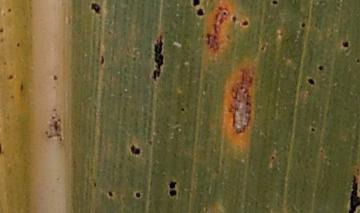tarspot: (153, 35, 164, 81), (347, 175, 360, 213), (90, 2, 101, 15), (130, 145, 141, 155), (306, 77, 316, 86), (168, 180, 177, 189), (44, 130, 53, 139), (52, 119, 58, 132), (196, 8, 205, 16), (342, 40, 350, 49), (317, 64, 325, 72), (99, 55, 105, 65), (51, 73, 58, 81), (241, 19, 249, 26), (299, 20, 306, 28), (192, 1, 201, 7), (147, 138, 153, 147), (259, 45, 266, 52), (231, 15, 237, 23), (269, 153, 275, 161), (169, 190, 177, 196), (50, 114, 56, 122), (7, 73, 13, 80), (15, 41, 21, 48), (270, 1, 278, 6), (310, 126, 316, 132), (135, 192, 141, 198), (222, 9, 227, 16), (51, 107, 58, 112), (7, 7, 12, 13), (180, 106, 185, 112), (92, 182, 97, 188), (58, 136, 63, 142), (20, 84, 24, 91), (108, 191, 113, 196), (1, 26, 4, 34), (356, 58, 360, 64), (1, 143, 3, 154)
